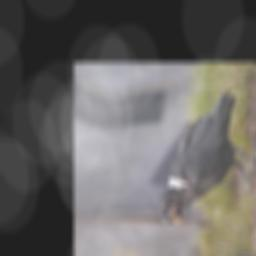Crow: (150, 82, 256, 235)
